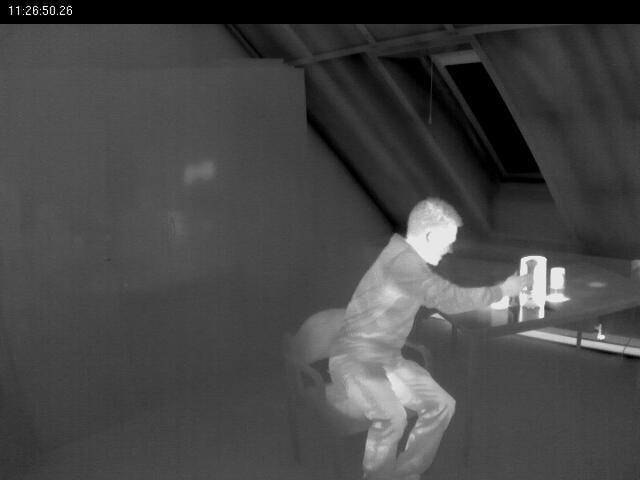person: (324, 191, 526, 480)
